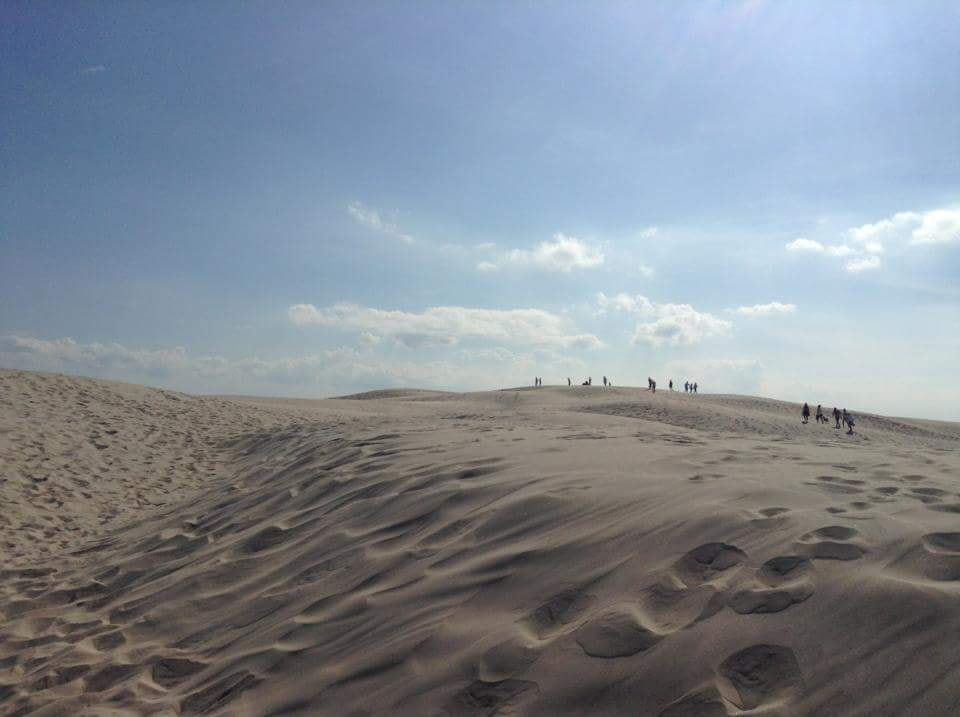human_foot_print: (575, 542, 746, 657), (659, 644, 804, 716), (717, 644, 803, 709), (639, 571, 724, 633), (729, 555, 812, 613), (574, 606, 661, 658), (519, 587, 596, 639), (887, 532, 959, 586), (446, 678, 537, 716), (673, 542, 745, 585), (478, 635, 539, 681), (795, 525, 865, 560), (658, 683, 730, 716), (807, 475, 864, 493), (750, 506, 790, 527), (902, 486, 948, 503), (845, 500, 874, 519), (871, 486, 899, 501), (687, 472, 724, 482), (757, 506, 789, 517), (928, 503, 959, 513), (825, 506, 846, 514)
